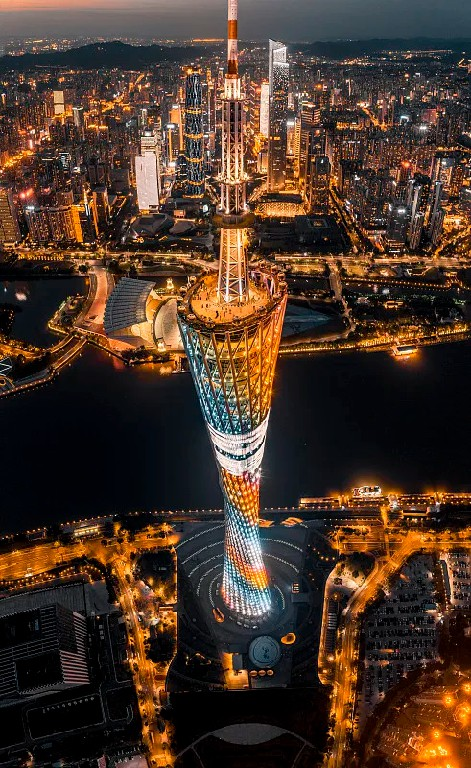Canton: (173, 1, 291, 618)
